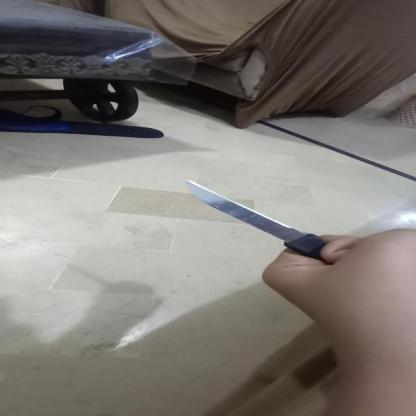Knife: (175, 171, 416, 275)
